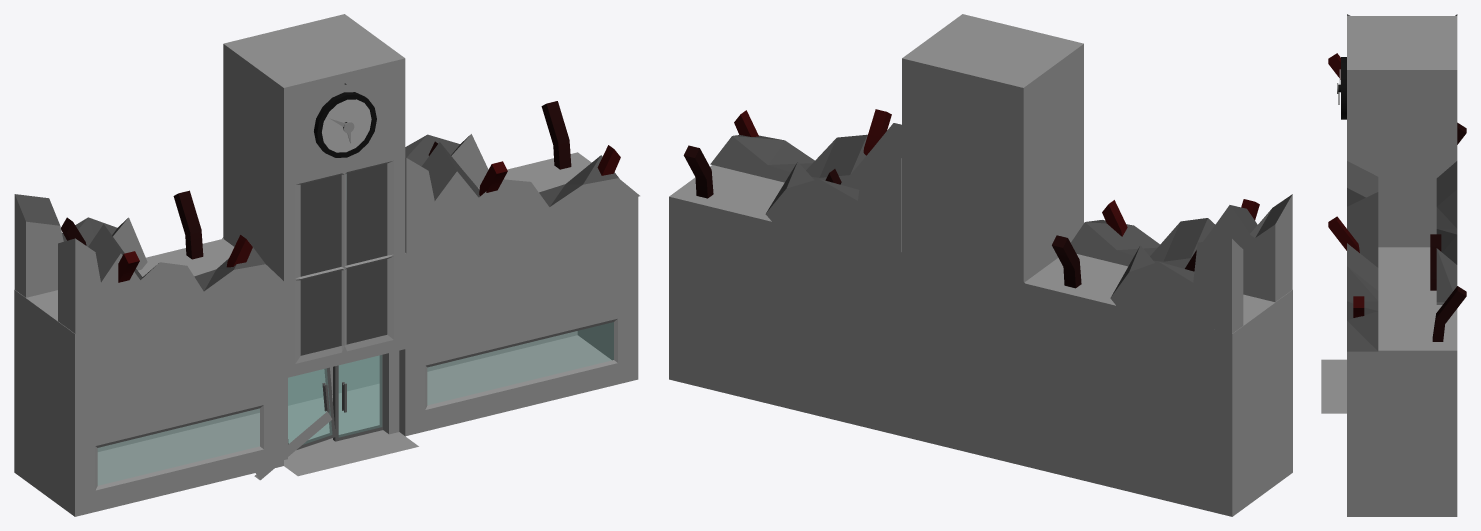
File: school@out.FBX
3 views of the same model, side by side, from view 1: azimuth 30°, elevation 25°; view 2: azimuth 150°, elevation 25°; view 3: azimuth 270°, elevation 25° (orthographic). The views are drawn at different scales.
Visible parts, largest first — view 1: Box001, Object003; view 2: Box001; view 3: Box001.
Part boxes in pixels (x1,y1,x2,y2): Box001: [14, 14, 639, 516]; Object003: [333, 354, 382, 441]; Box001: [669, 14, 1292, 516]; Box001: [1321, 14, 1466, 516].
Size of the model in its own units: 113 by 75.25 by 27.71.
